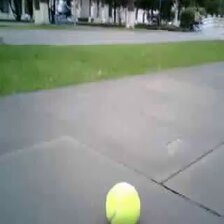tennis: (105, 181, 141, 224)
